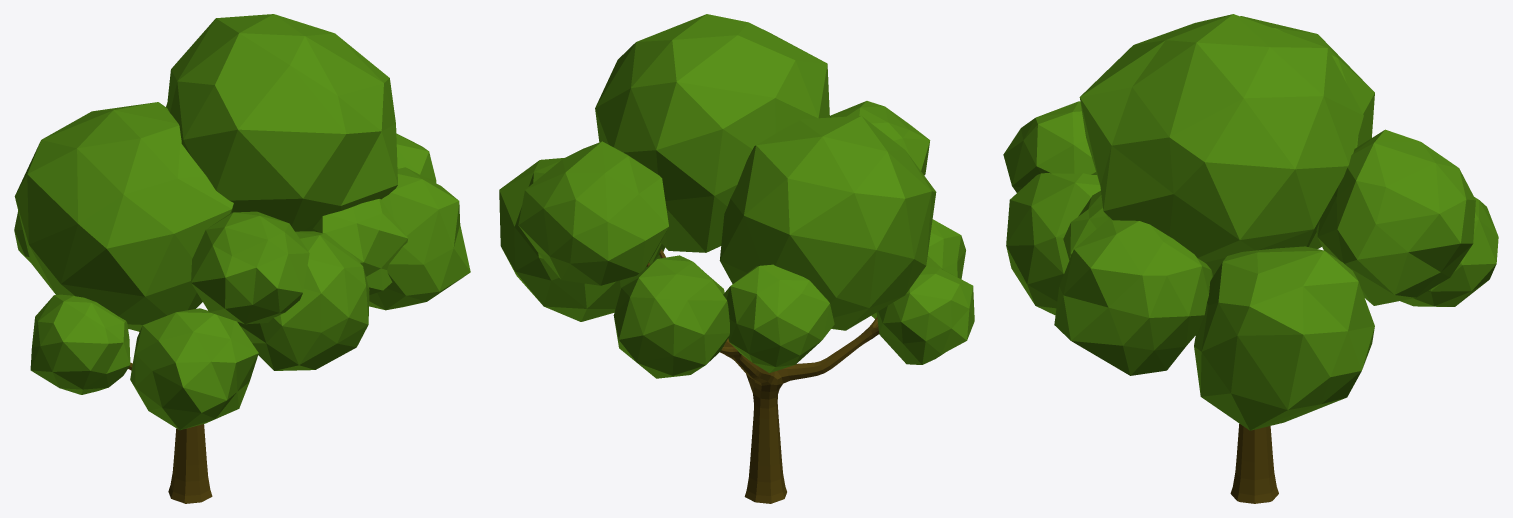
File: Tree Part 2.glb
3 views of the same model, side by side, from view 1: azimuth 30°, elevation 25°; view 2: azimuth 150°, elevation 25°; view 3: azimuth 270°, elevation 25° (orthographic). The views are drawn at different scales.
Visible parts, largest first — view 1: Icosphere.002; view 2: Icosphere.002; view 3: Icosphere.002.
Boxes of the visible parts, <box> form: Icosphere.002: <box>14,14,470,503</box>; Icosphere.002: <box>499,14,974,503</box>; Icosphere.002: <box>1003,14,1498,503</box>.
Bounding box in the file's own units: 12.14 × 12.23 × 10.9.
Materials: 1 (1 with a texture image).
